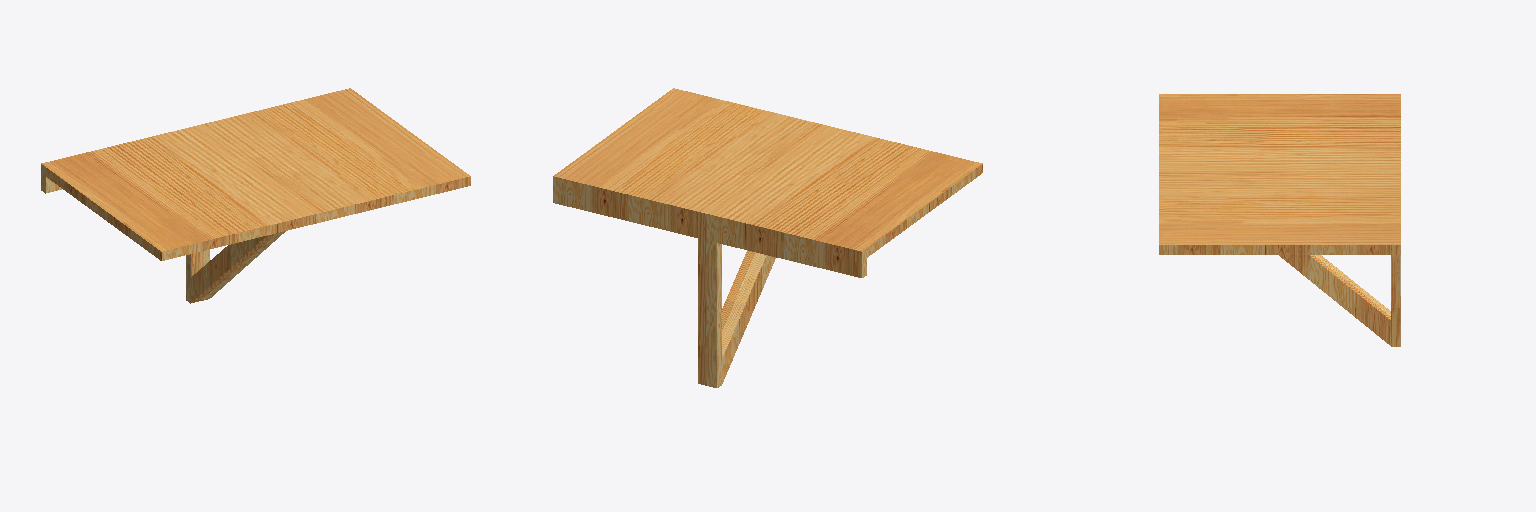
The picture shows the model from 3 angles: view 1: azimuth 30°, elevation 25°; view 2: azimuth 150°, elevation 25°; view 3: azimuth 270°, elevation 25°; orthographic projection.
Visible parts, largest first — view 1: Mesh1 Model; view 2: Mesh1 Model; view 3: Mesh1 Model.
Part boxes in pixels (x1,y1,x2,y2): Mesh1 Model: (41,88,470,303); Mesh1 Model: (553,88,982,387); Mesh1 Model: (1159,94,1400,346).
Size of the model in its own units: 31.88 by 16.94 by 21.5.
2 materials, 2 textured.